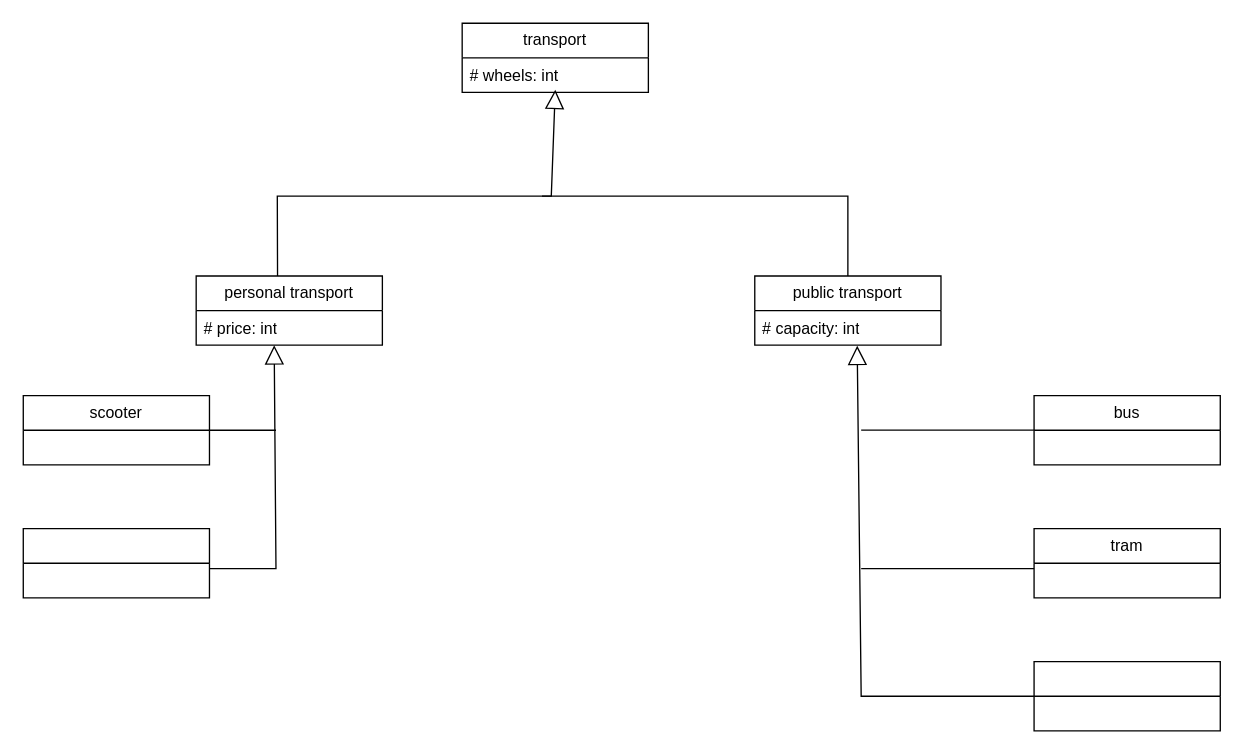
Some shapes in this 1244 by 754 pixel diagram are drawn without their labels. The shapes that lost their labels are listed below. From the top down, each one's centre as x and y in pixels, then its label:
the point at 115,562: car
the point at 1126,695: taxi
